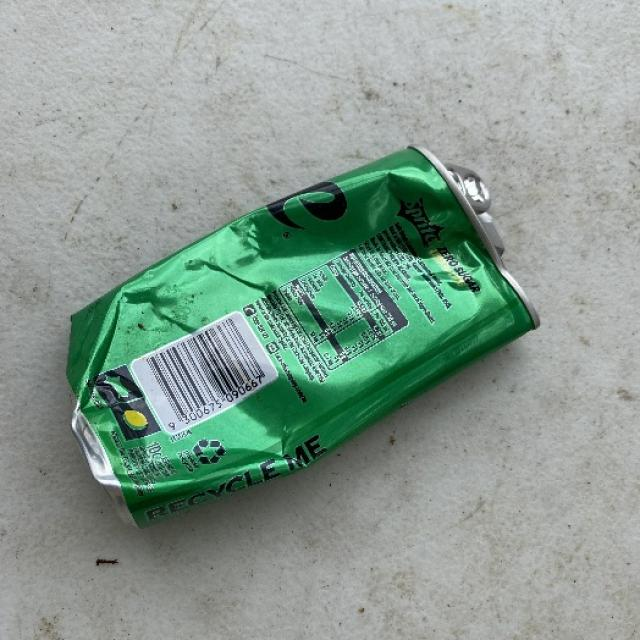metal: (66, 143, 540, 529)
